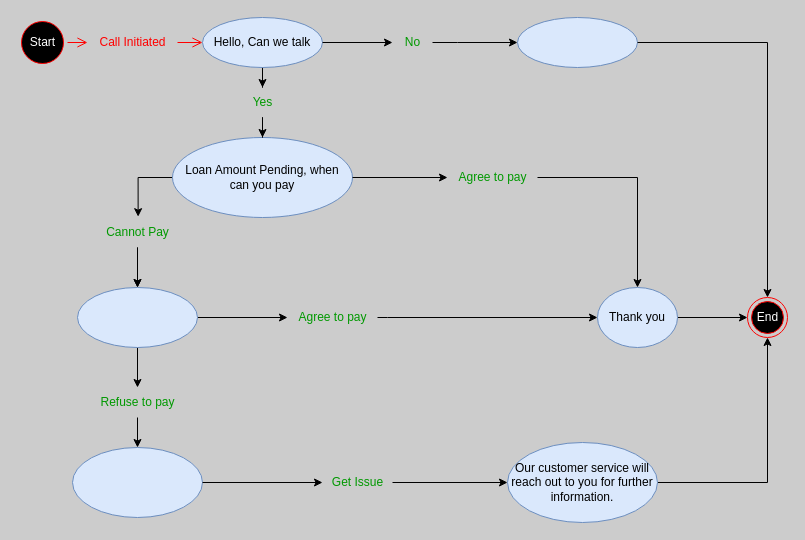
Some shapes in this 805 by 540 pixel diagram are drawn without their labels. The shapes that lost their labels are listed below. From the top down, each one's box as (x1, y1, x2, y2) in pixels, then its label:
(516, 16, 638, 68): Busy - Call Later
(76, 286, 198, 348): Create some preasure
(72, 446, 202, 518): Reason for delay
